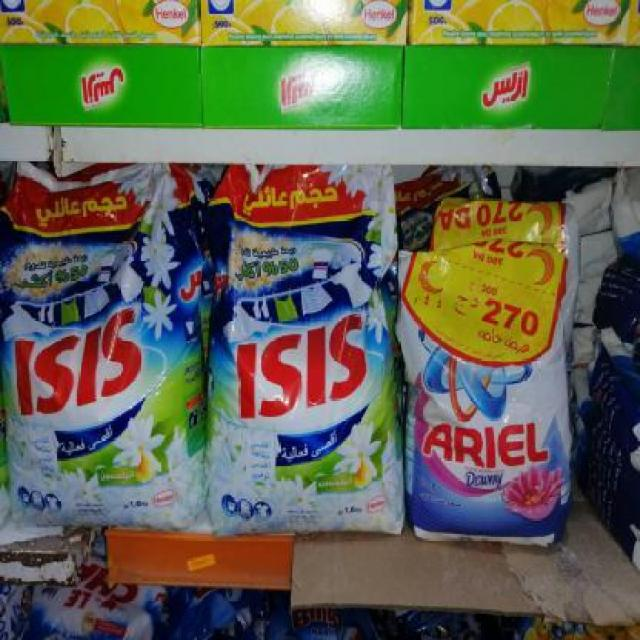Detergent: (403, 228, 575, 544)
